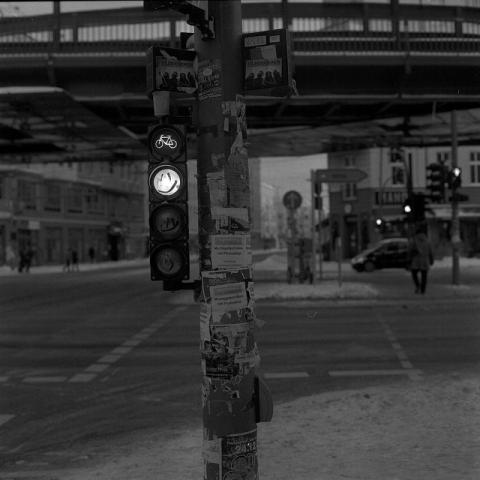car: (350, 236, 407, 273)
